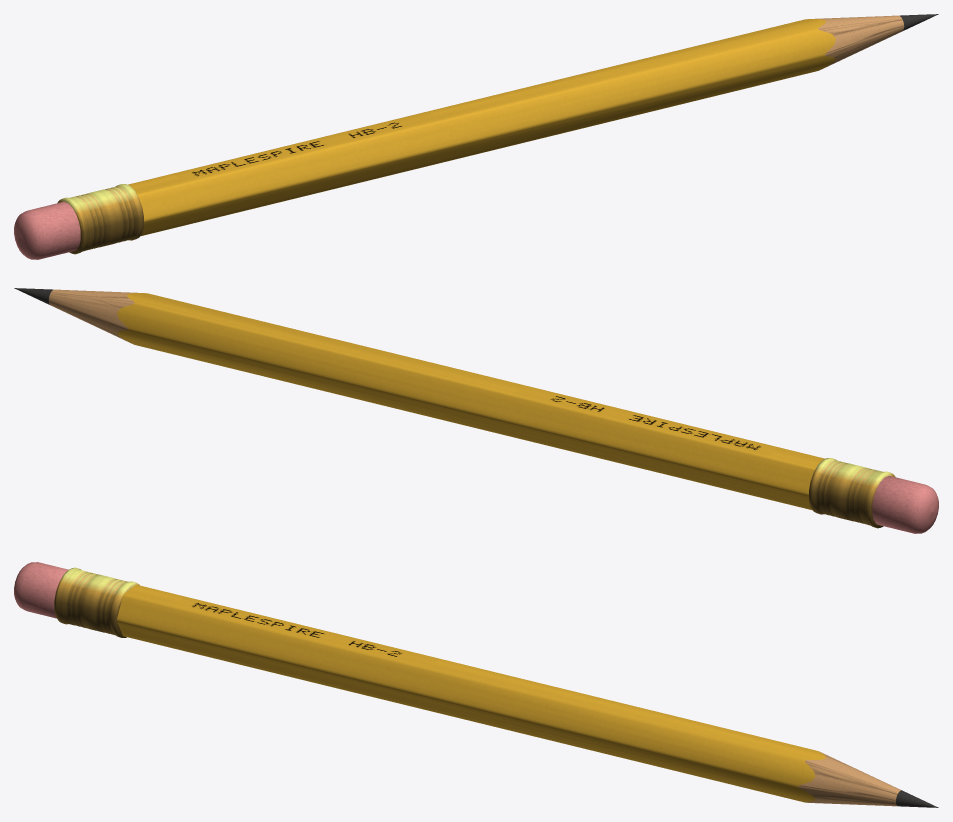
File: desk-pencil.glb
The picture shows the model from 3 angles, top to bottom: view 1: azimuth 30°, elevation 25°; view 2: azimuth 150°, elevation 25°; view 3: azimuth 330°, elevation 25°; orthographic projection.
Parts seen in each view (by area): view 1: desk-pencil; view 2: desk-pencil; view 3: desk-pencil.
Part boxes in pixels (bbox=[...]): desk-pencil: bbox=[14, 14, 938, 259]; desk-pencil: bbox=[14, 288, 938, 533]; desk-pencil: bbox=[14, 562, 938, 807].
Size of the model in its own units: 101 by 5.52 by 5.44.
1 material, 1 textured.
